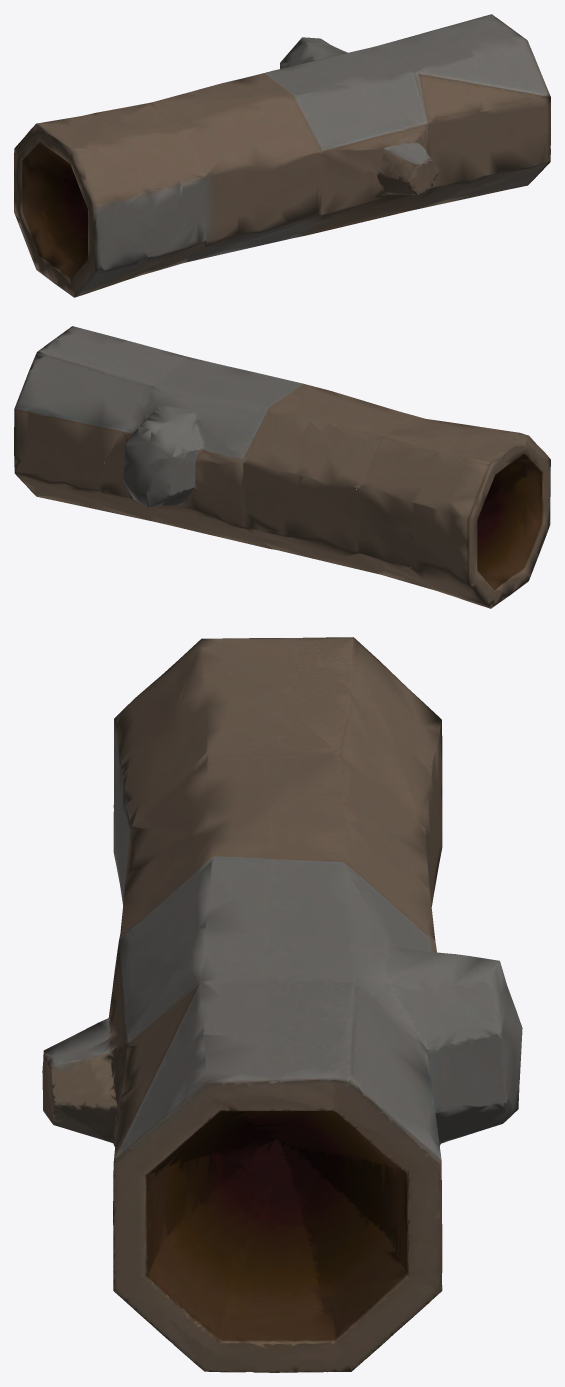
File: 장애물_통나무.glb
3 renders of one model, top to bottom at view 1: azimuth 30°, elevation 25°; view 2: azimuth 150°, elevation 25°; view 3: azimuth 270°, elevation 25°, orthographic. The views are drawn at different scales.
Visible parts, largest first — view 1: tripo_node_141e2dd5-9cdc-402b-b022-58ca0de5e833; view 2: tripo_node_141e2dd5-9cdc-402b-b022-58ca0de5e833; view 3: tripo_node_141e2dd5-9cdc-402b-b022-58ca0de5e833.
Part boxes in pixels (left/top/right/bottom): tripo_node_141e2dd5-9cdc-402b-b022-58ca0de5e833: left=14, top=14, right=550, bottom=297; tripo_node_141e2dd5-9cdc-402b-b022-58ca0de5e833: left=14, top=326, right=550, bottom=608; tripo_node_141e2dd5-9cdc-402b-b022-58ca0de5e833: left=42, top=637, right=522, bottom=1372.
Bounding box in the file's own units: 0.9806 × 0.3019 × 0.4475.
Materials: 1 (1 with a texture image).
